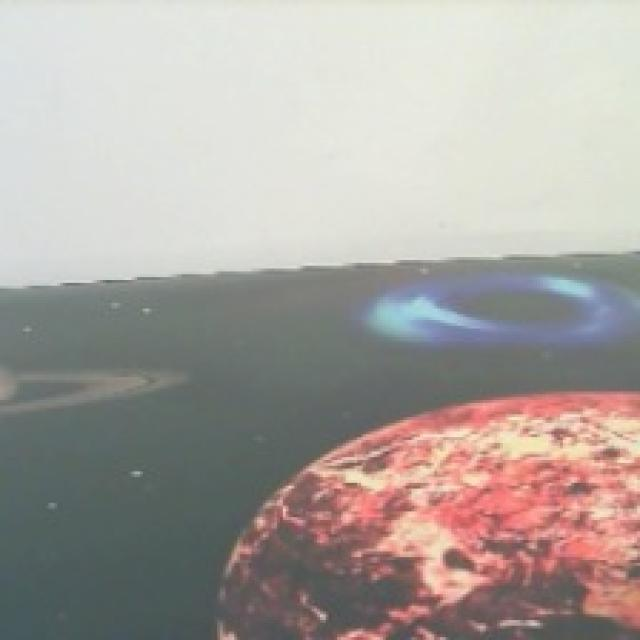Saturn: (0, 359, 194, 414)
Sun: (214, 388, 640, 640), (364, 266, 640, 351)
